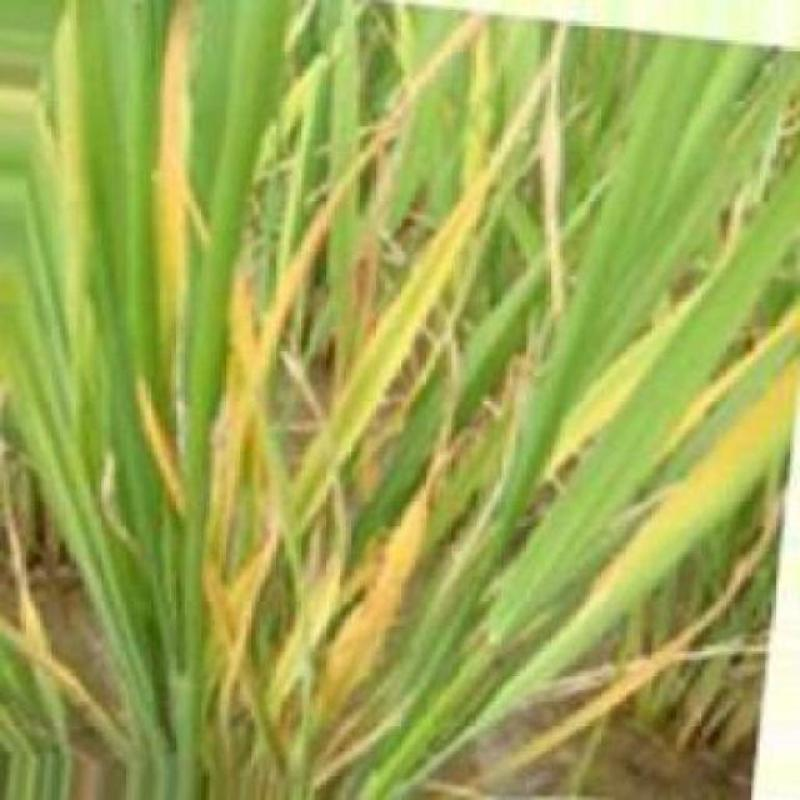Rice Tungro: (175, 6, 485, 656), (202, 172, 497, 748), (435, 338, 796, 768), (275, 441, 460, 744), (488, 552, 728, 762), (512, 278, 698, 484), (152, 3, 194, 412), (6, 598, 112, 742), (124, 386, 188, 505)
